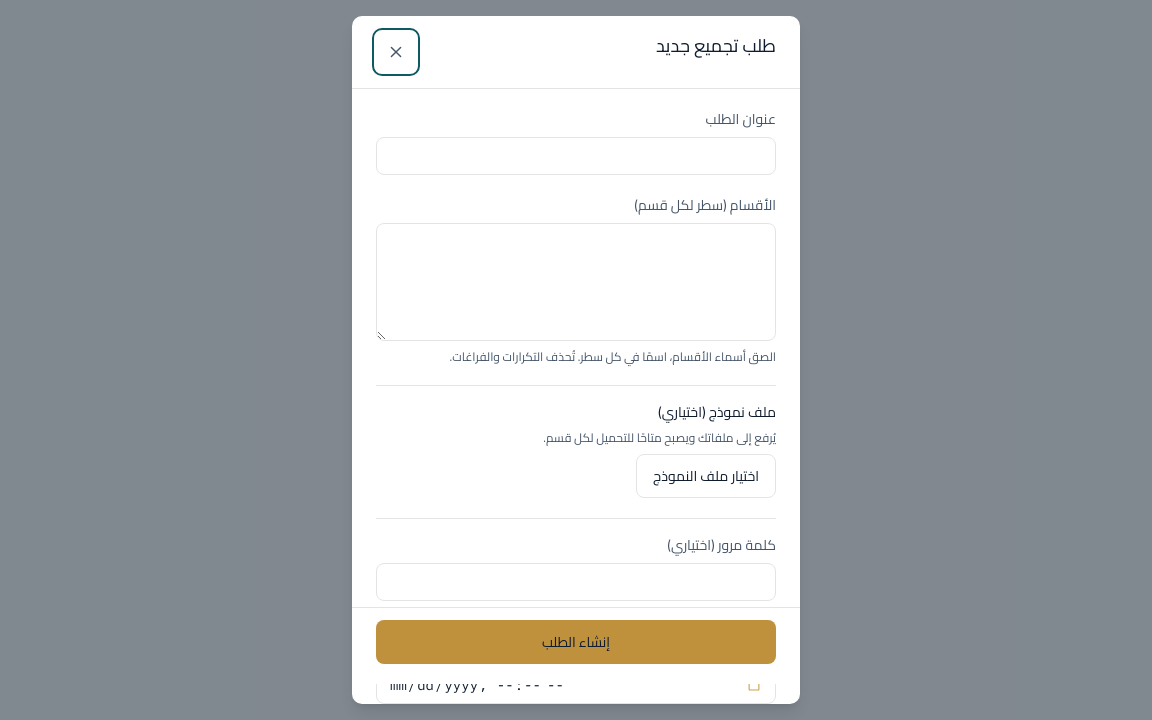
CreateCollectionModal — create flow (Collections Phase 3) › shows the copyable /c link on success
Type "مسح" into the field labelled "عنوان الطلب".
click(576, 156); type("مسح")  # box [376,137,776,175]
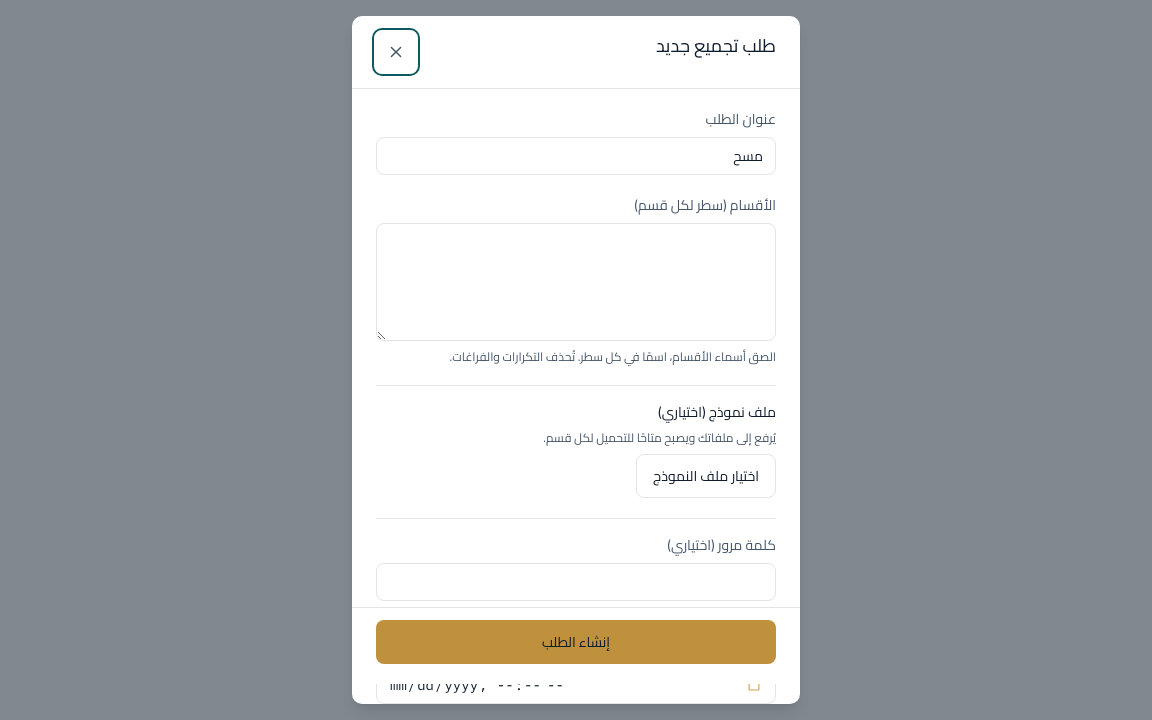
Type "المالية" into the text box labelled "الأقسام (سطر لكل قسم)".
click(576, 282); type("المالية")  # box [376,223,776,341]
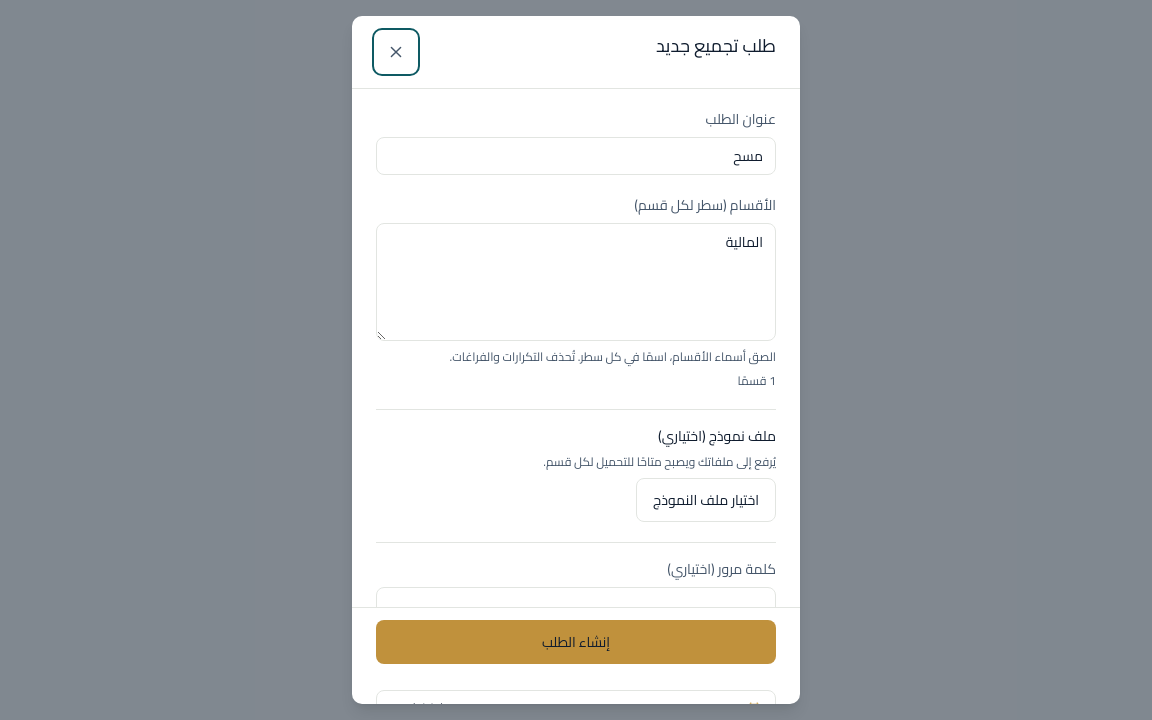
Click the button "إنشاء الطلب".
click(576, 642)  # box [376,620,776,664]
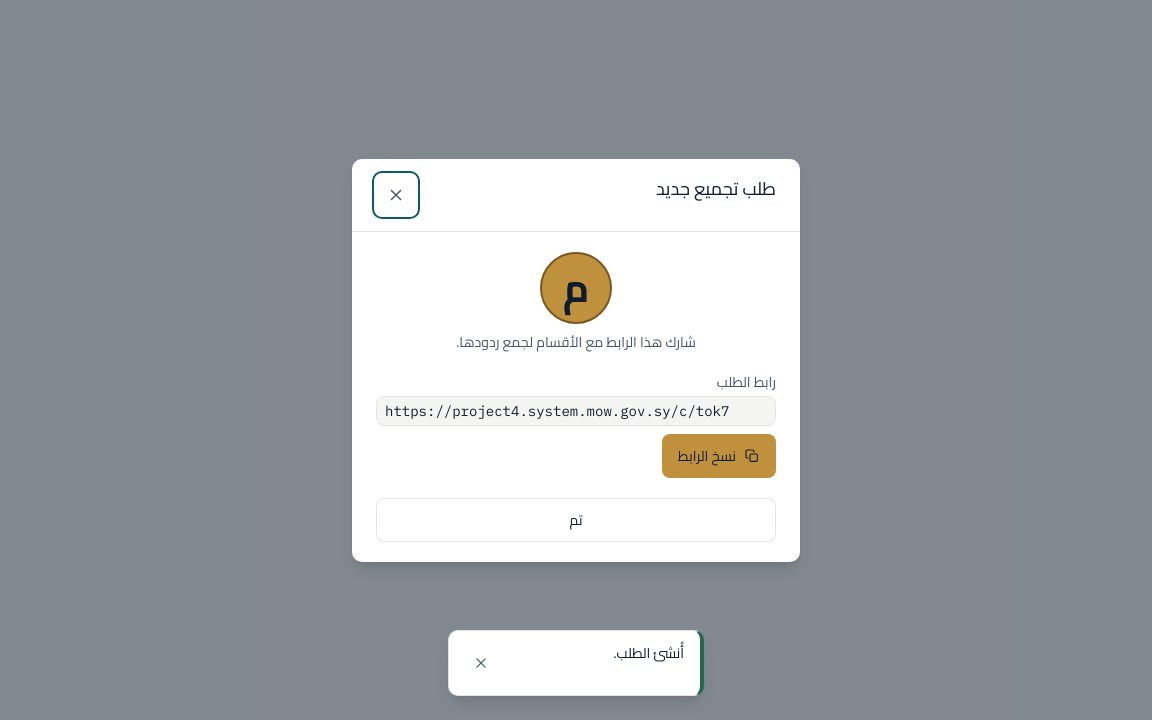
Now the text "https://project4.system.mow.gov.sy/c/tok7" is shown, box [376,396,776,426]
Now the button "نسخ الرابط" is shown, box [662,434,776,478]
